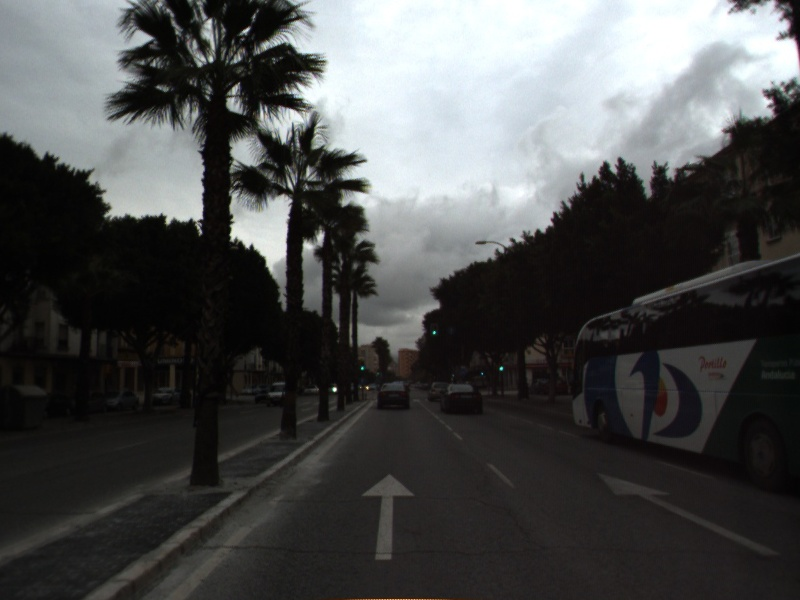STRAIGHT: (594, 470, 784, 559), (358, 471, 418, 562)
